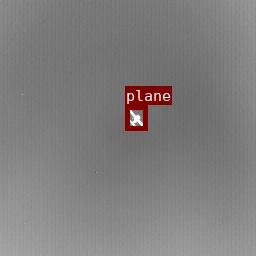plane: (125, 105, 147, 130)
